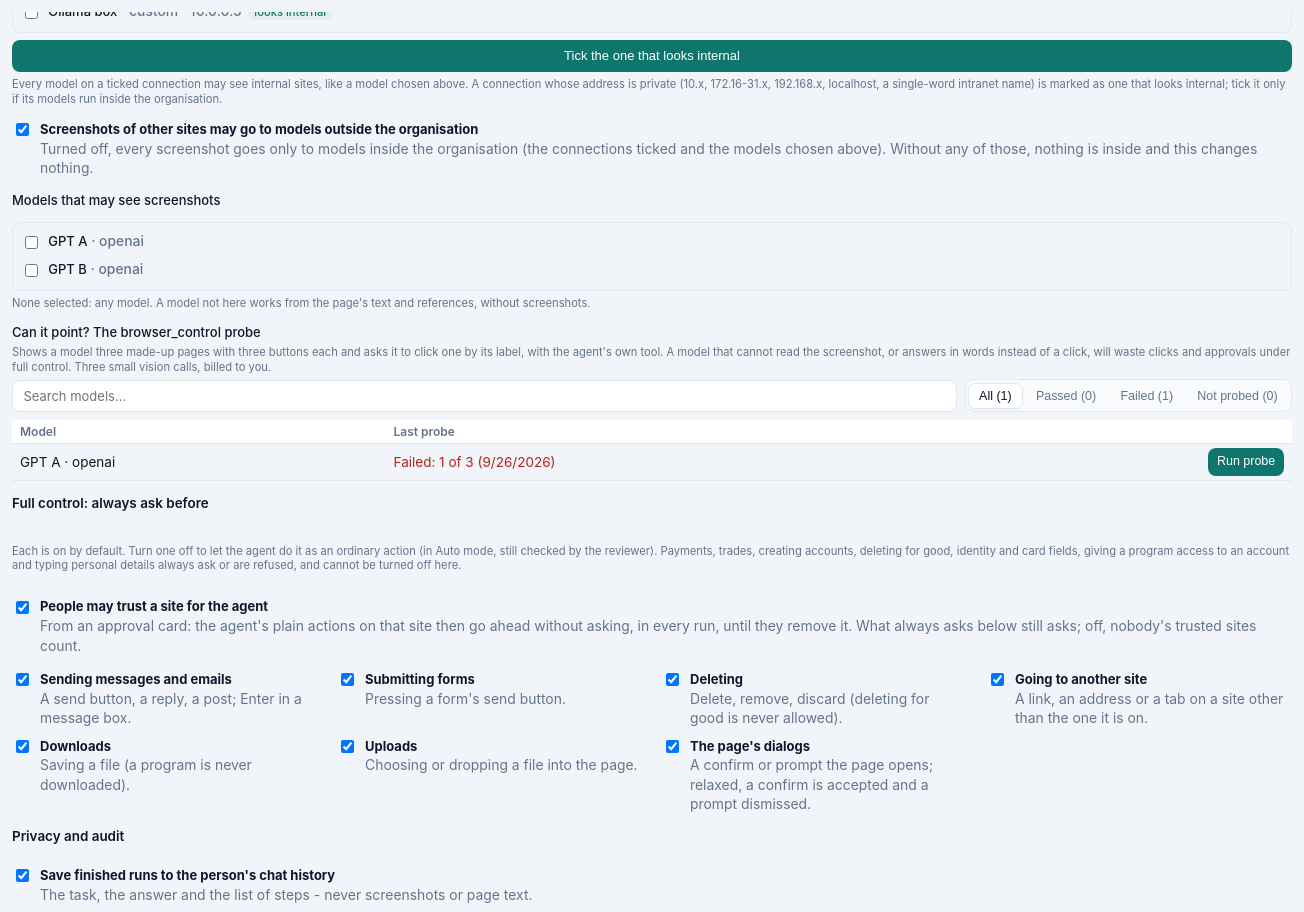
the browser_control probe › lists the models that read images, with their last result, and runs one on request
The image size is (1304, 912).
Expected: the row "GPT A · openai Failed: 1 of 3 (9/26/2026) Run probe" is shown, x1=12 y1=444 x2=1292 y2=481
Click the button "Run probe" at (1246, 462), box x1=1208 y1=448 x2=1284 y2=476
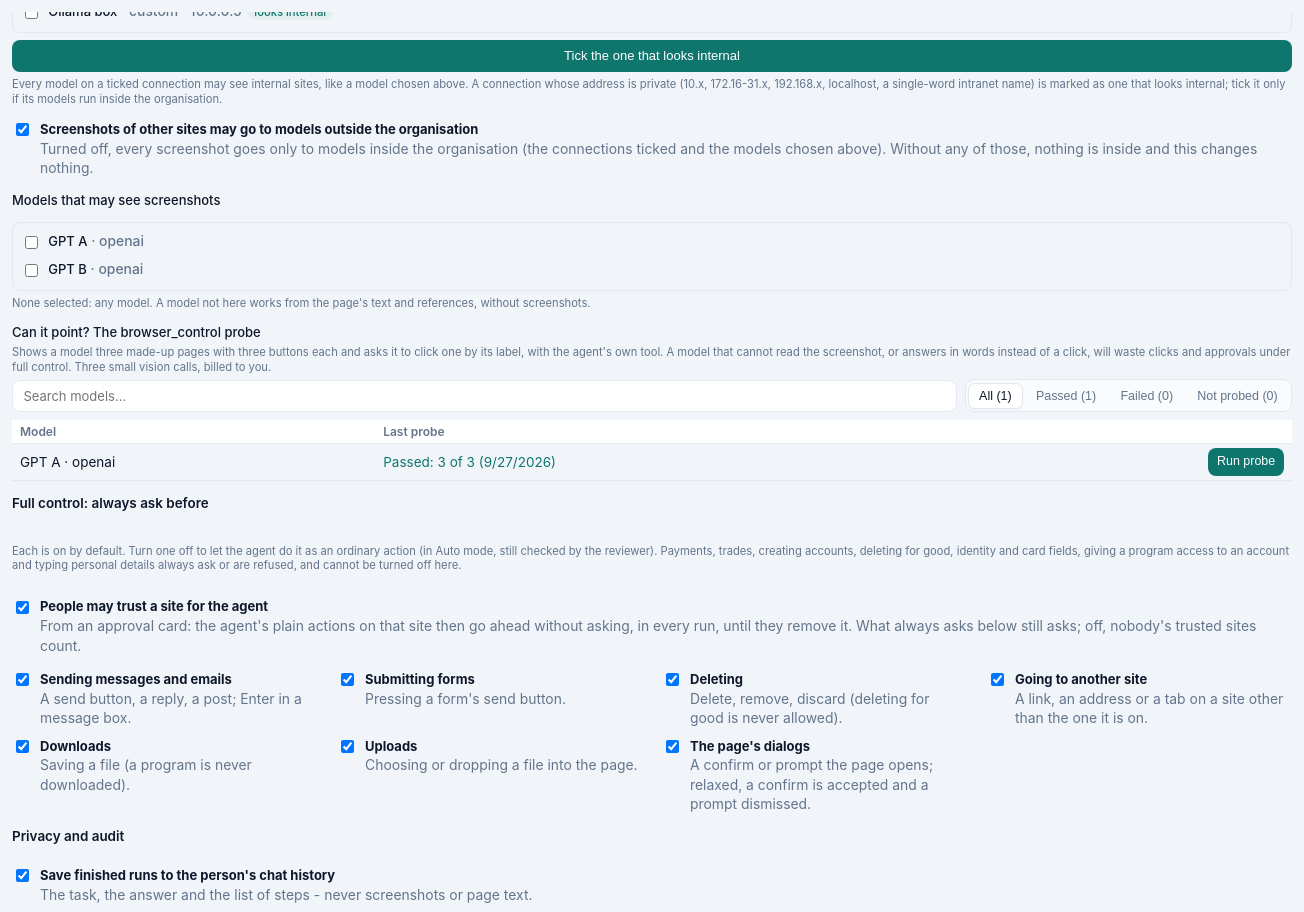
Result: the row "GPT A · openai Passed: 3 of 3 (9/27/2026) Run probe" is shown at x1=12 y1=444 x2=1292 y2=481
Result: the cell with class "extension-admin__probe--ok" is shown at x1=375 y1=444 x2=992 y2=481
